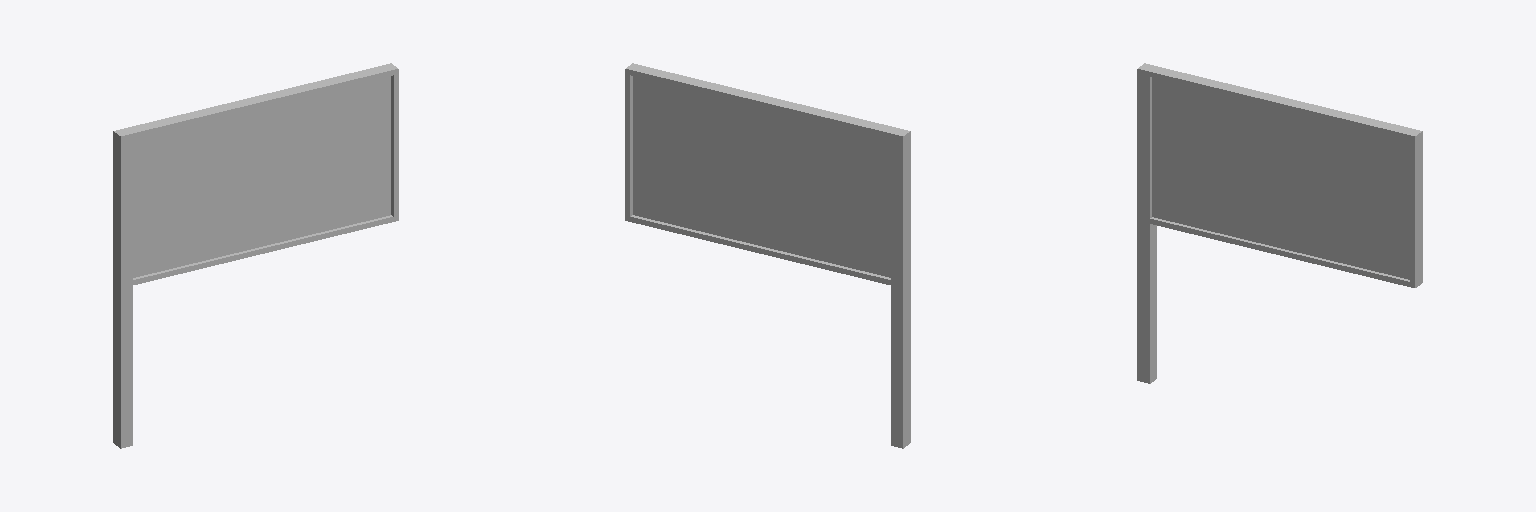
Rendered from tiest-modiel'_rieklamnyi-bilbord.obj.
The picture shows the model from 3 angles: view 1: azimuth 30°, elevation 25°; view 2: azimuth 150°, elevation 25°; view 3: azimuth 330°, elevation 25°; orthographic projection.
Parts seen in each view (by area): view 1: cube; view 2: cube; view 3: cube.
Part boxes in pixels (bbox=[...]): cube: bbox=[113, 63, 398, 448]; cube: bbox=[625, 63, 910, 448]; cube: bbox=[1137, 63, 1422, 383].
Size of the model in its own units: 6.81 by 7.31 by 0.3125.